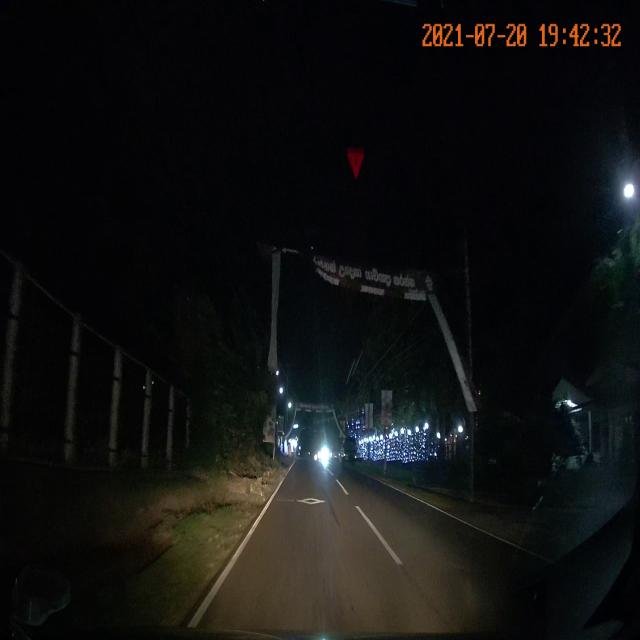diamond: (257, 484, 366, 512)
